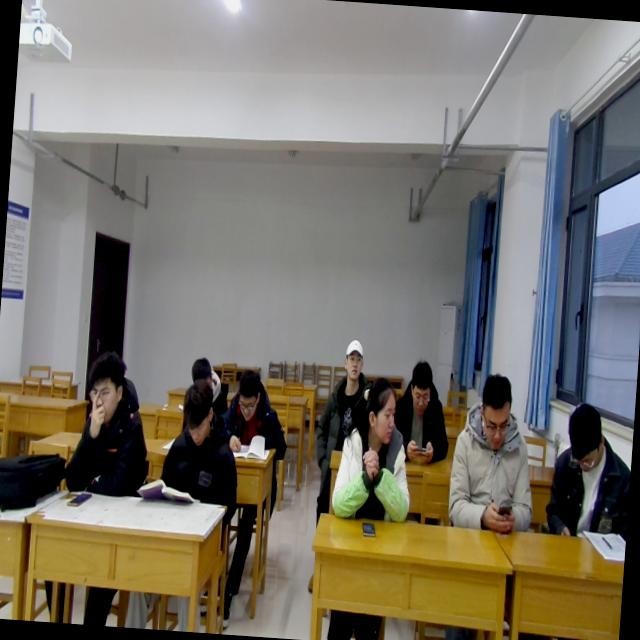down: (560, 398, 610, 478), (82, 344, 130, 427), (475, 372, 516, 457), (176, 378, 217, 448), (231, 366, 264, 425), (405, 357, 435, 417), (186, 349, 216, 391)
lookup: (340, 334, 368, 382)
sit: (448, 362, 543, 530), (62, 343, 156, 500), (330, 380, 416, 530), (544, 400, 634, 534), (158, 382, 245, 512), (312, 334, 372, 470), (392, 351, 451, 471), (226, 369, 292, 458), (178, 341, 223, 407)
